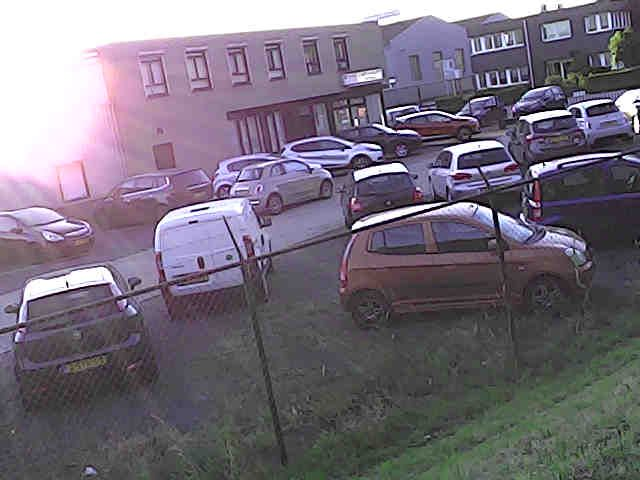suv: (5, 264, 157, 407), (339, 202, 503, 327), (522, 152, 639, 242), (94, 169, 212, 227), (230, 159, 333, 214), (428, 140, 521, 200), (340, 162, 423, 226), (0, 207, 93, 261), (506, 110, 587, 168), (281, 136, 383, 168), (568, 99, 633, 147), (212, 153, 277, 198), (339, 124, 421, 157), (395, 110, 480, 140), (512, 85, 566, 118), (457, 95, 506, 128), (615, 89, 639, 134), (386, 105, 421, 127)
whitevan: (154, 198, 270, 320)
